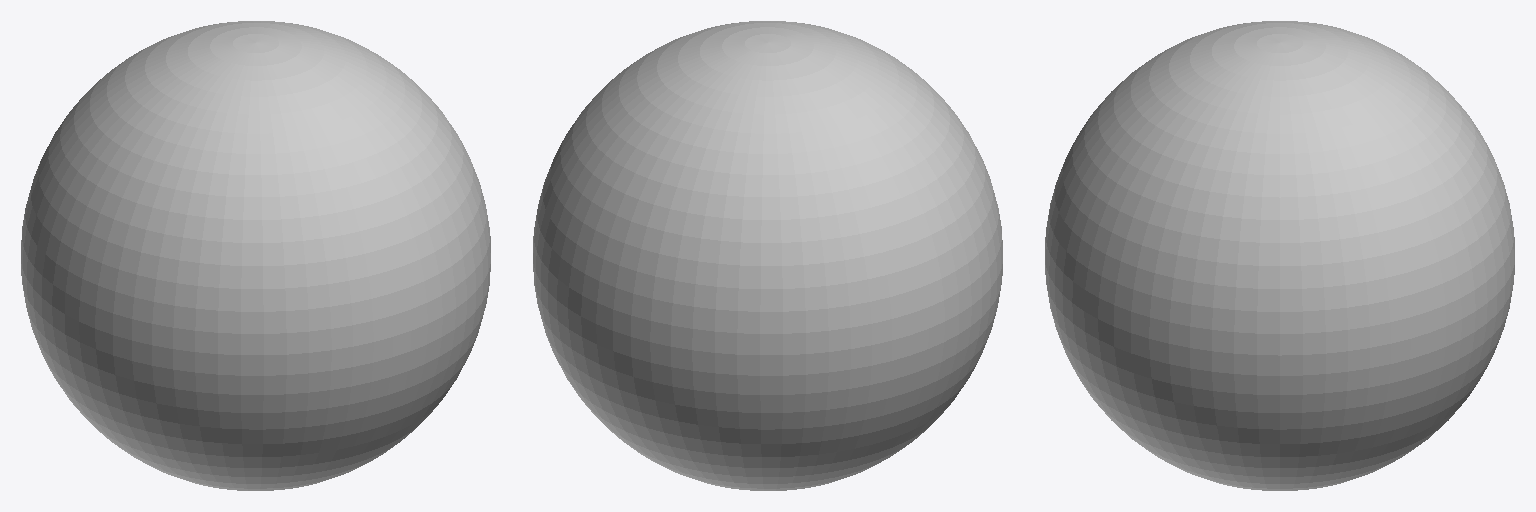
File: earthOnline.obj
The picture shows the model from 3 angles: view 1: azimuth 30°, elevation 25°; view 2: azimuth 150°, elevation 25°; view 3: azimuth 270°, elevation 25°; orthographic projection.
Visible parts, largest first — view 1: Sphere001.002; view 2: Sphere001.002; view 3: Sphere001.002.
Part boxes in pixels (x1,y1,x2,y2): Sphere001.002: (21, 21, 490, 490); Sphere001.002: (533, 21, 1002, 490); Sphere001.002: (1045, 21, 1514, 490).
Bounding box in the file's own units: 682 × 682 × 682.